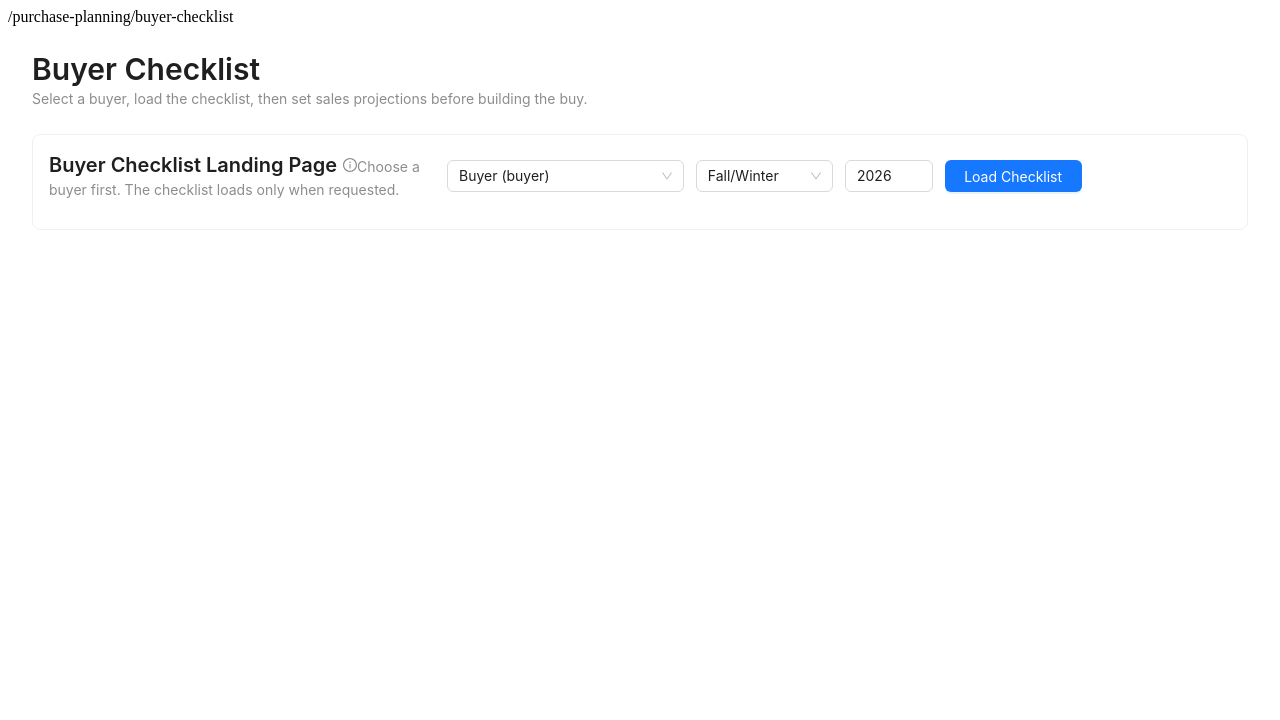
Test case: BuyerPurchasePlanningPage › renders all loaded buyer categories on the checklist landing table
Click the button "Load Checklist" at (1013, 176), box [944,160,1082,192]
(page scrolled)
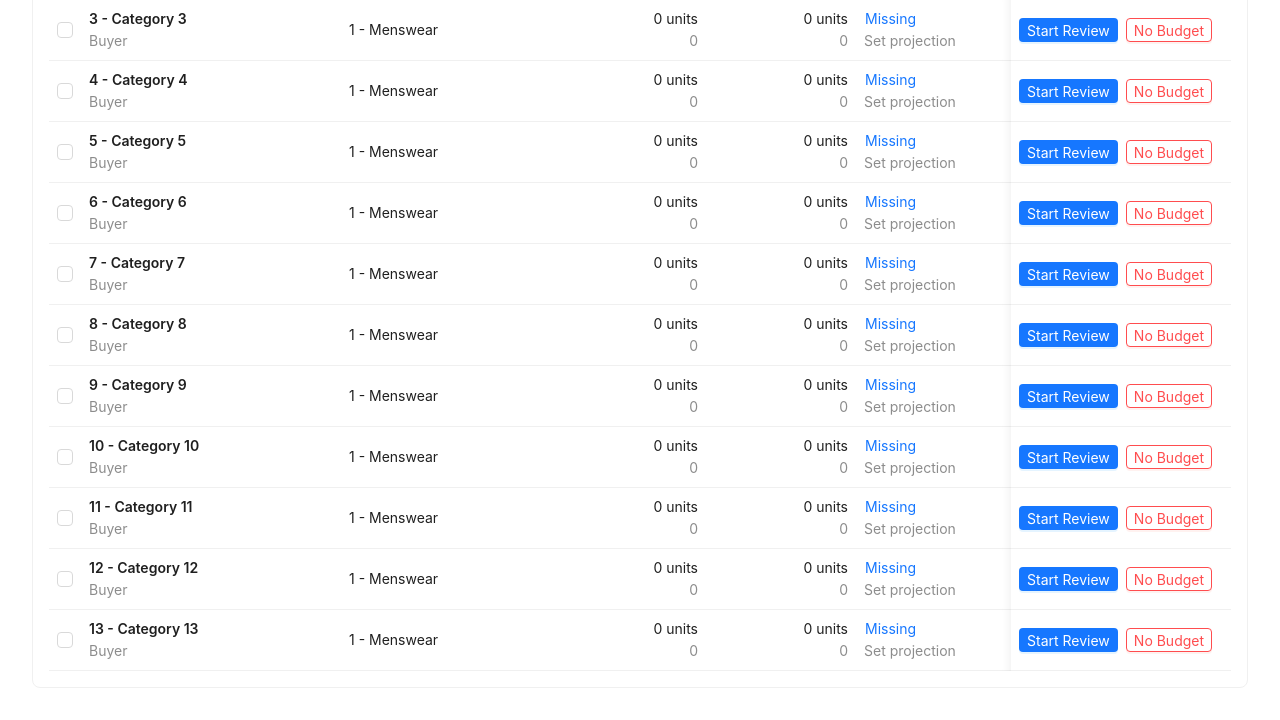
Expected: the text "13 - Category 13" is shown, [89,620,198,637]
